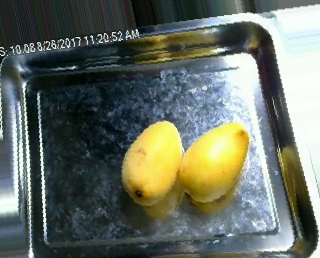Mango: (180, 121, 252, 201), (119, 117, 181, 206)
